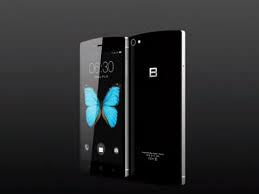bphone: (127, 27, 187, 188), (76, 31, 128, 179)
